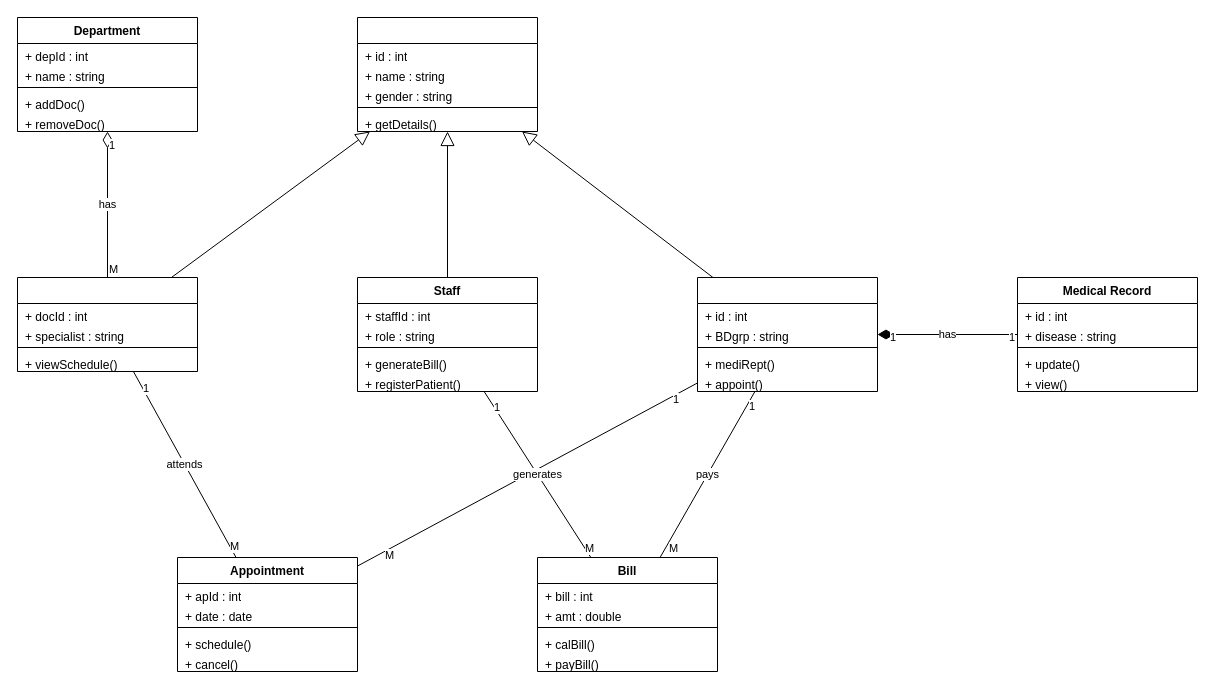
This 1215x692 diagram has some shape labels left out. Each missing label, with the box of its shape:
Doctor: (16, 276, 198, 372)
Patient: (696, 276, 878, 392)
Person: (356, 16, 538, 132)
